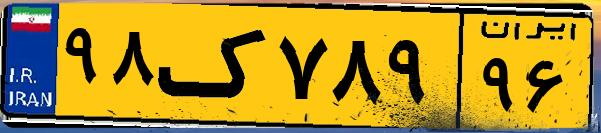6: (525, 38, 570, 115)
7: (270, 28, 330, 110)
8: (330, 28, 385, 110), (110, 28, 158, 98)
9: (385, 28, 445, 110), (57, 26, 110, 100), (475, 38, 525, 113)
ک: (158, 12, 270, 120)
